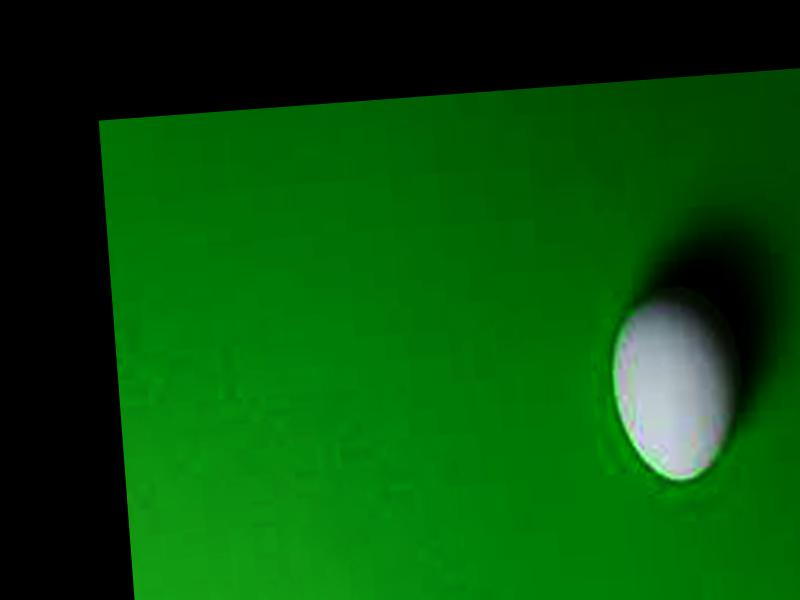Eggs: (608, 281, 748, 486)
